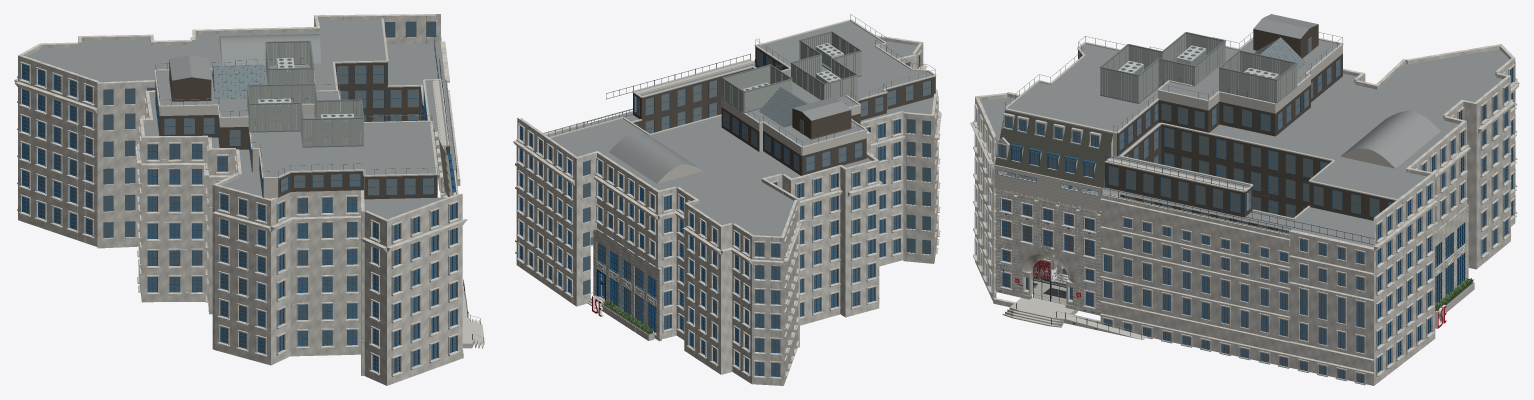
File: old-exterior-a92874b20028.glb
The picture shows the model from 3 angles, left to right: view 1: azimuth 30°, elevation 25°; view 2: azimuth 150°, elevation 25°; view 3: azimuth 270°, elevation 25°; orthographic projection. The views are drawn at different scales.
Visible parts, largest first — view 1: OLD.001; view 2: OLD.001; view 3: OLD.001.
Part boxes in pixels (x1,y1,x2,y2): OLD.001: (14,14,484,385); OLD.001: (513,14,941,385); OLD.001: (970,14,1519,385).
Size of the model in its own units: 56.66 by 32.15 by 73.14.
Materials: 112 (28 with a texture image).
